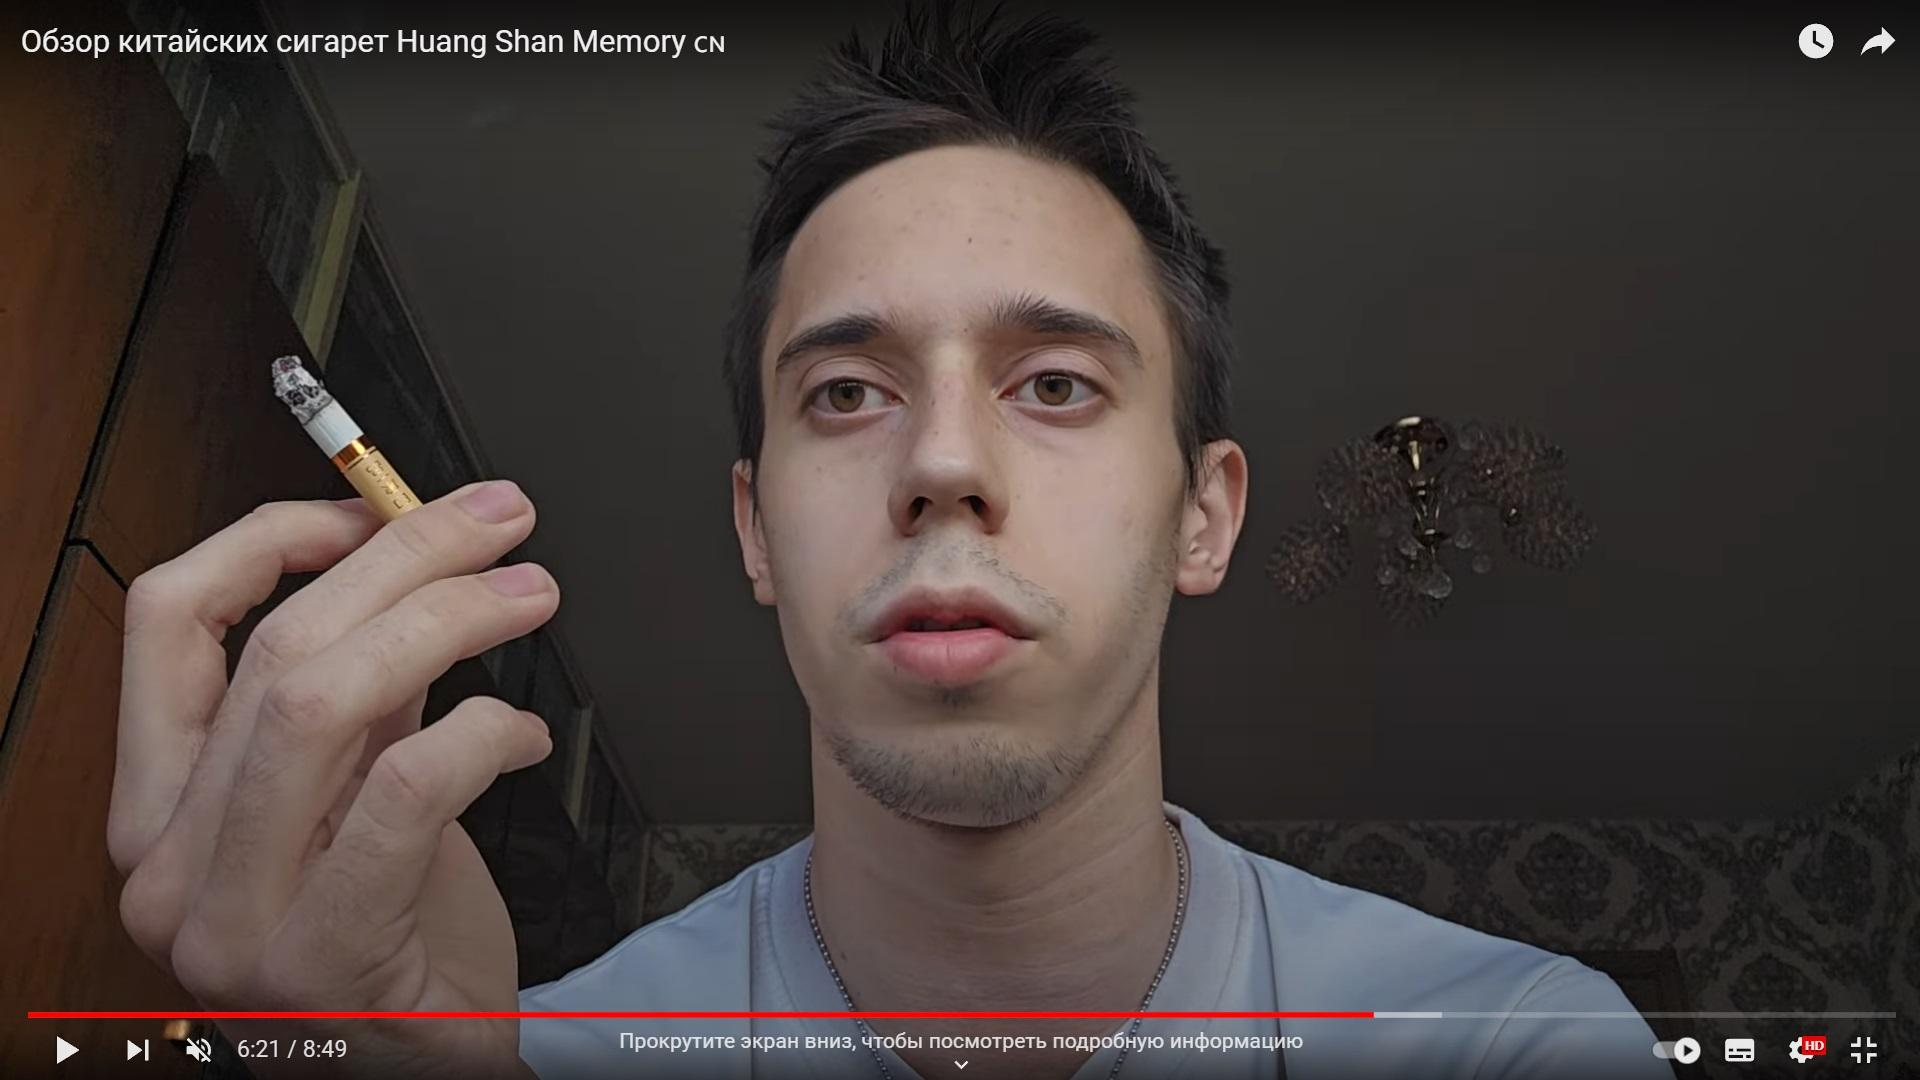cigarette: (272, 355, 425, 524)
